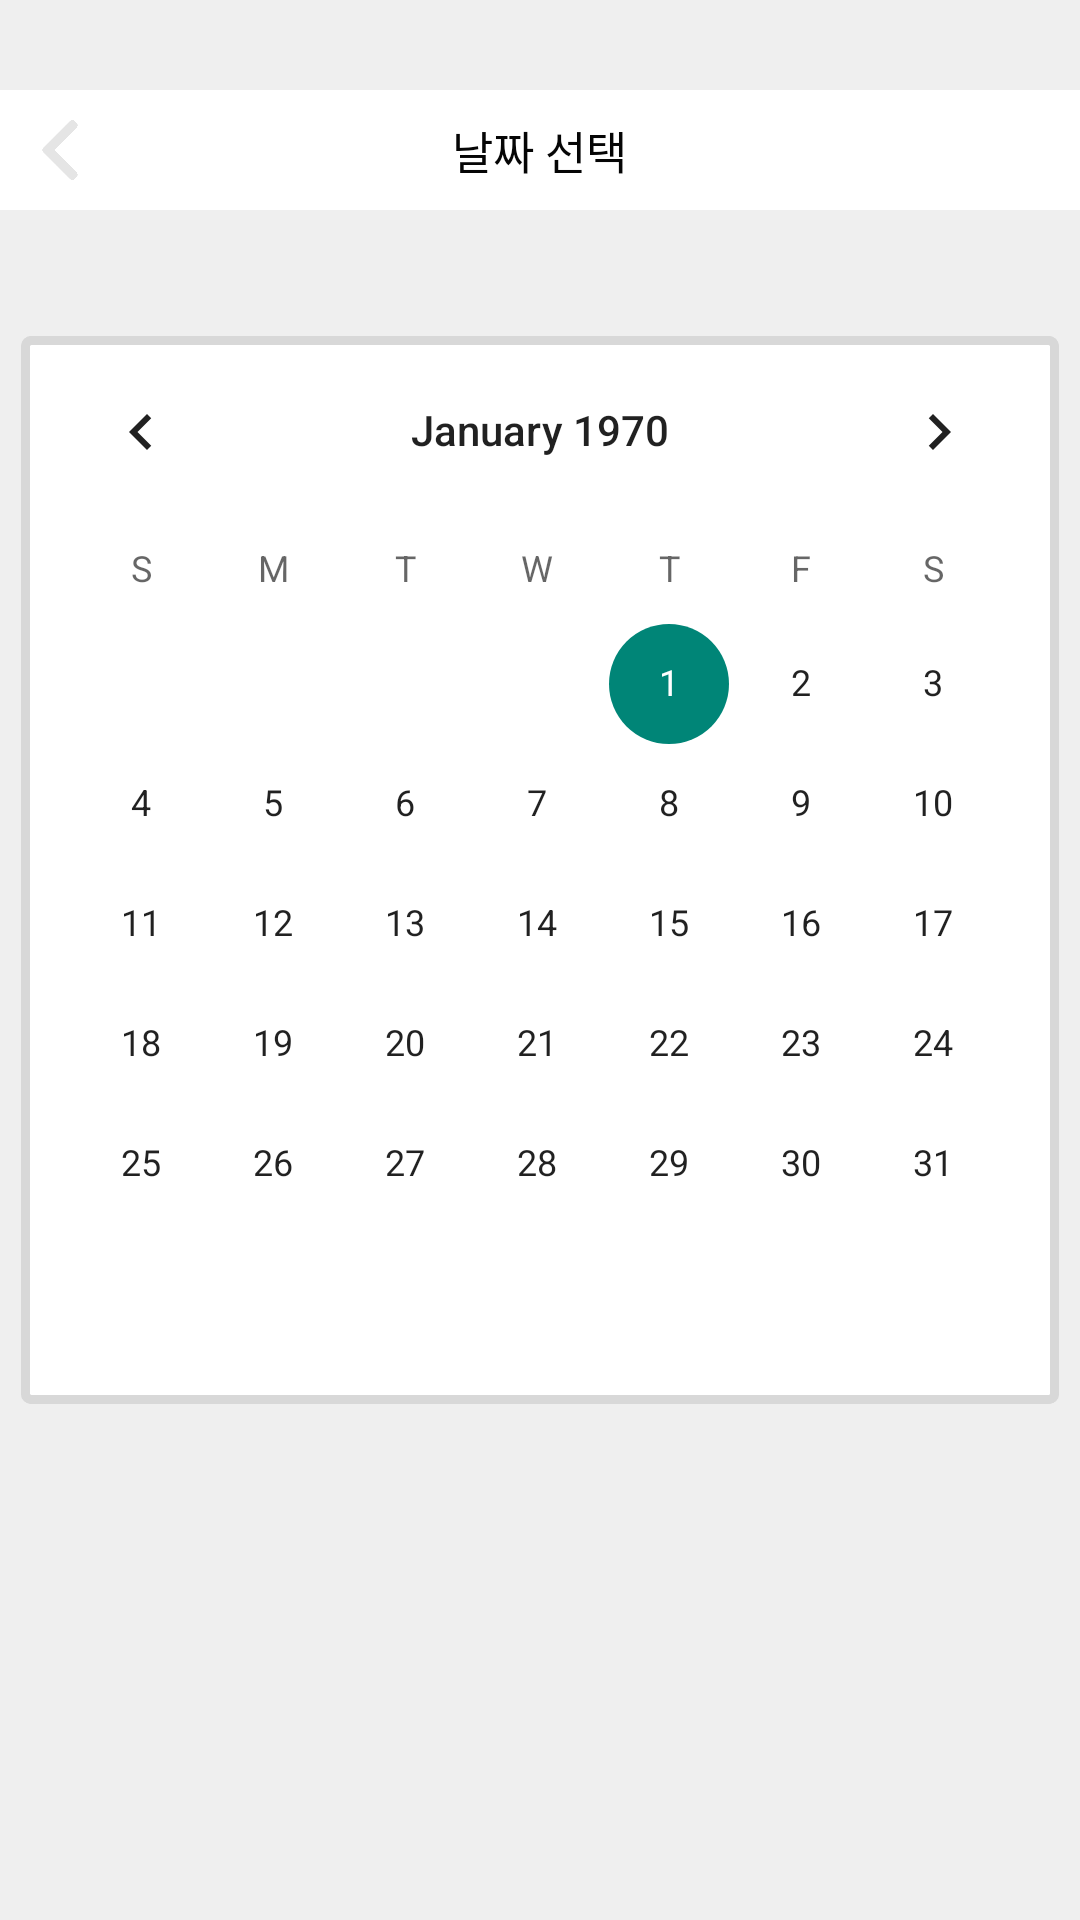

Icons on this 1080 x 1920 Android screen, each with the point to tap as [x,y]:
left arrow: [60,150]
